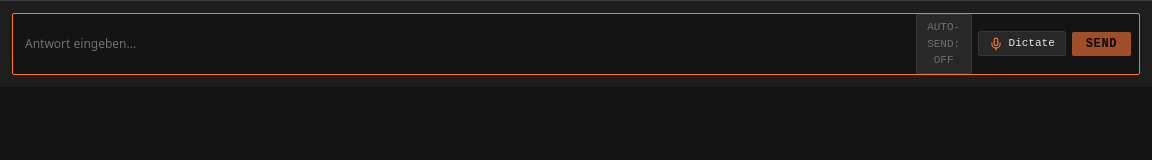
Test: ChatInput › displays error message when microphone permission is denied
Click the button with aria-label "spracheingabe starten" at (1022, 44), box [978,31,1066,56]
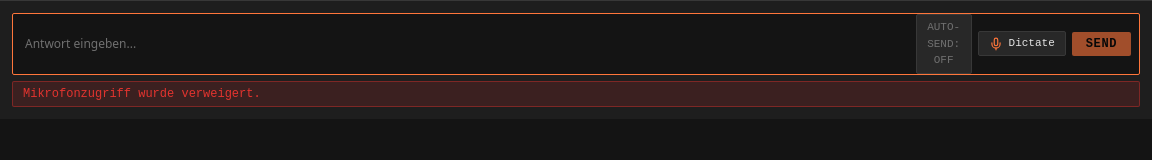
Check: the text "Mikrofonzugriff wurde verweigert." is shown, box [12,80,1140,106]
